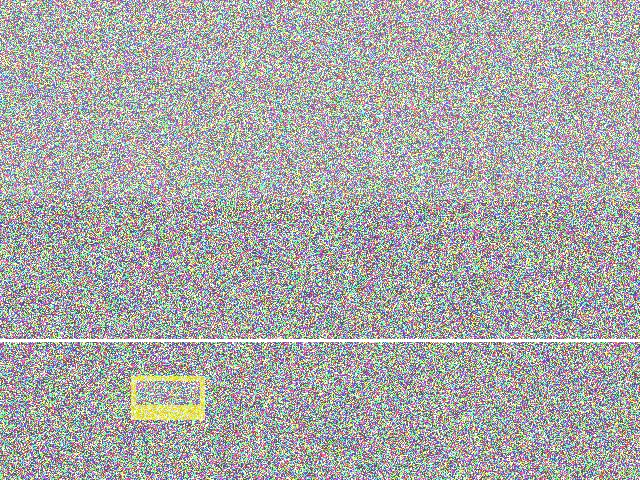bus: (134, 157, 269, 293)
motorcycle: (415, 335, 558, 448)
